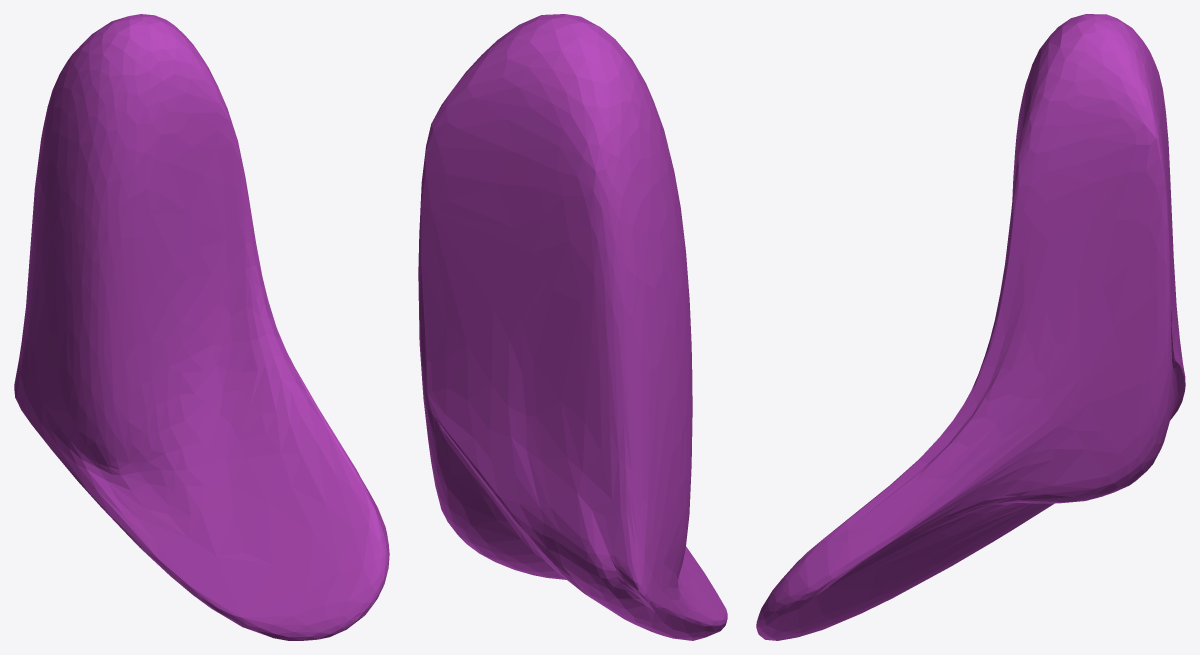
3 renders of one model, left to right at view 1: azimuth 30°, elevation 25°; view 2: azimuth 150°, elevation 25°; view 3: azimuth 270°, elevation 25°, orthographic. The views are drawn at different scales.
Parts seen in each view (by area): view 1: 687_Cube.2759; view 2: 687_Cube.2759; view 3: 687_Cube.2759.
Part boxes in pixels (<box>): 687_Cube.2759: <box>14,14,389,640</box>; 687_Cube.2759: <box>418,14,727,640</box>; 687_Cube.2759: <box>756,14,1185,640</box>.
Size of the model in its own units: 6.37 by 15.02 by 9.74.
